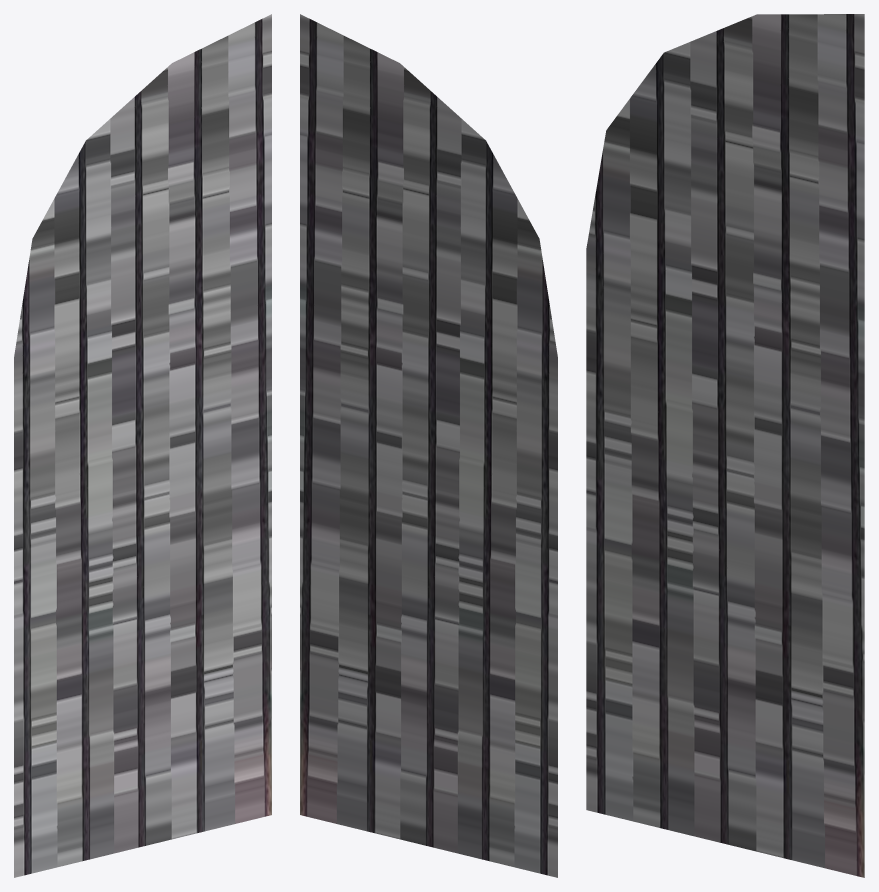
Rendered from gate_door.glb.
The picture shows the model from 3 angles, left to right: view 1: azimuth 30°, elevation 25°; view 2: azimuth 150°, elevation 25°; view 3: azimuth 330°, elevation 25°; orthographic projection. The views are drawn at different scales.
Parts seen in each view (by area): view 1: Door-col; view 2: Door-col; view 3: Door-col.
Boxes of the visible parts, left/top/right/bottom form: Door-col: left=14, top=14, right=271, bottom=877; Door-col: left=300, top=14, right=557, bottom=877; Door-col: left=586, top=14, right=864, bottom=877.
Size of the model in its own units: 1.05 by 3.13 by 7.58e-05.
1 material, 1 textured.
